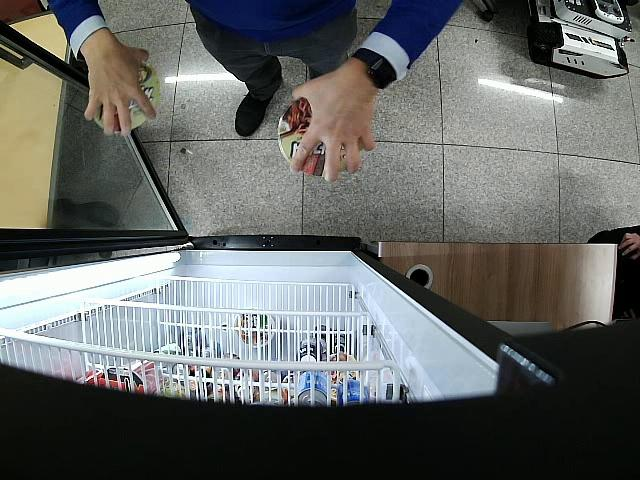00_hand: (290, 72, 374, 183), (84, 35, 157, 137)
03_chapagetti_L: (277, 97, 363, 175), (92, 61, 157, 133)
